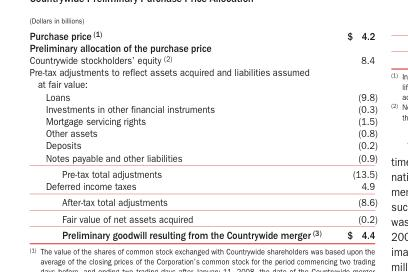table: (28, 28, 376, 240)
table column: (28, 28, 333, 240), (333, 28, 376, 240)
table projected row header: (28, 65, 376, 90), (28, 41, 376, 53)
table row: (28, 65, 376, 90), (28, 193, 376, 210), (28, 210, 376, 225), (28, 225, 376, 240), (28, 151, 376, 165), (28, 165, 376, 179), (28, 179, 376, 193), (28, 28, 376, 41), (28, 138, 376, 151), (28, 41, 376, 53), (28, 53, 376, 65), (28, 90, 376, 102), (28, 102, 376, 114), (28, 114, 376, 126), (28, 126, 376, 138)
